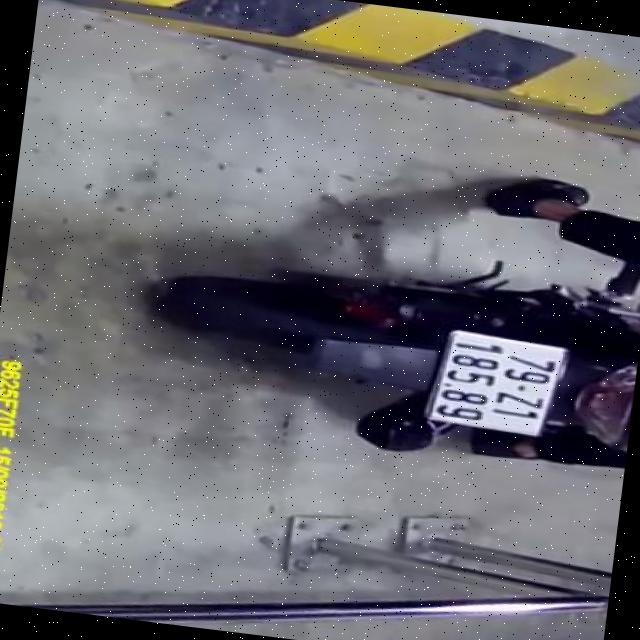license_plate: (421, 325, 578, 440)
